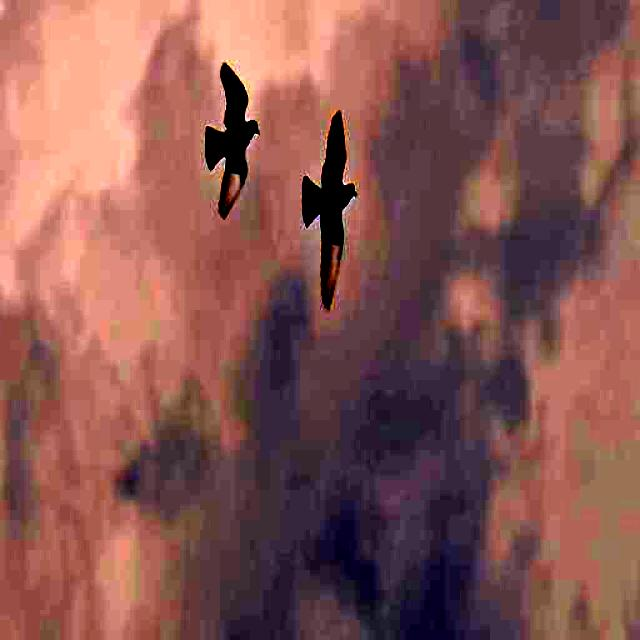airplane: (290, 79, 378, 320), (182, 44, 265, 240)
